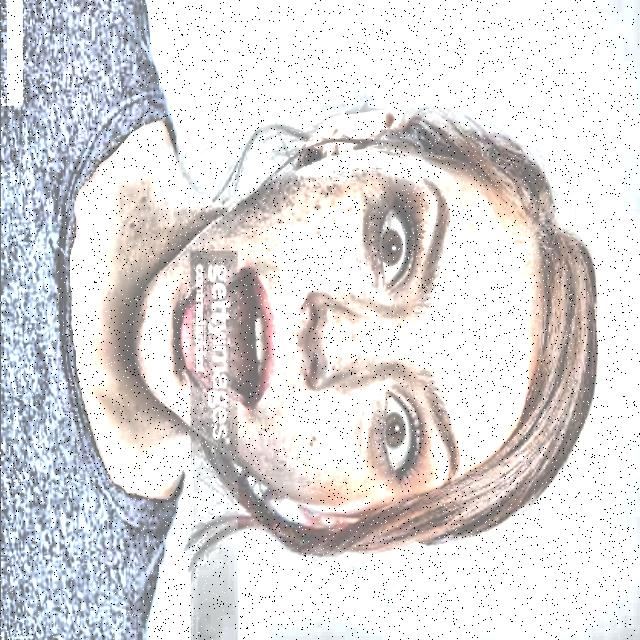surprised: (87, 98, 602, 568)
